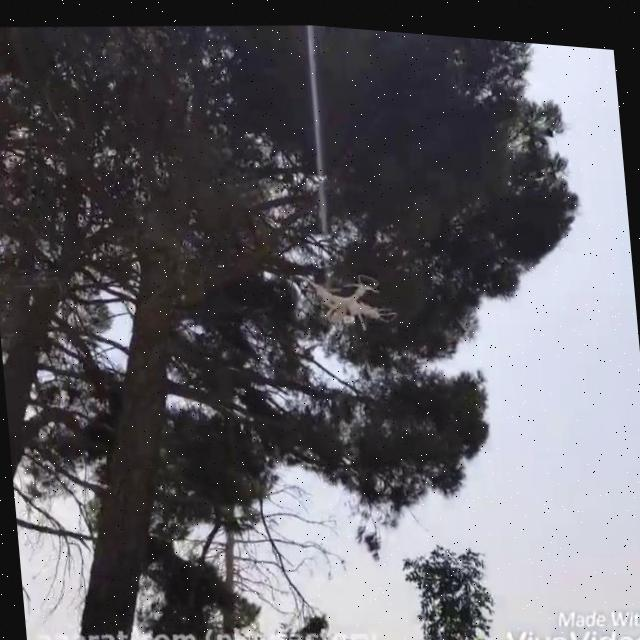drone: (304, 259, 398, 333)
